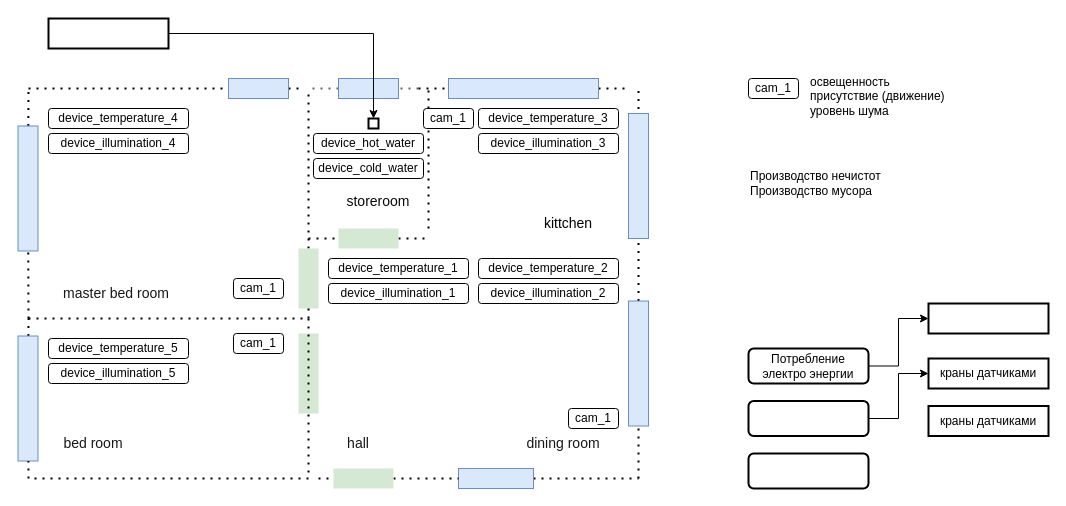
Some shapes in this 1066 by 506 pixel diagram are drawn without their labels. Each missing label, with the centre of its shape:
"main hub (brain)" belongs at pixel 108 33.
"Потребление горячей воды" belongs at pixel 808 418.
"Потребление холодной воды" belongs at pixel 808 470.
"розетки с датчиками" belongs at pixel 988 318.
